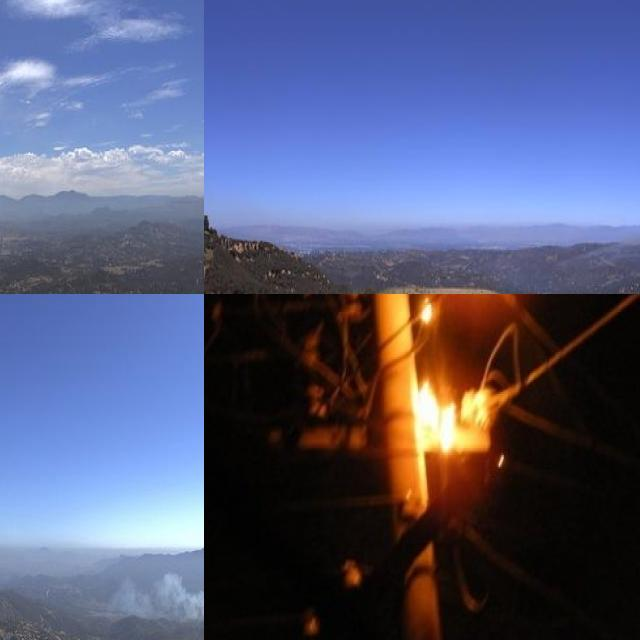fire: (396, 380, 499, 455)
smoke: (98, 564, 204, 630)
